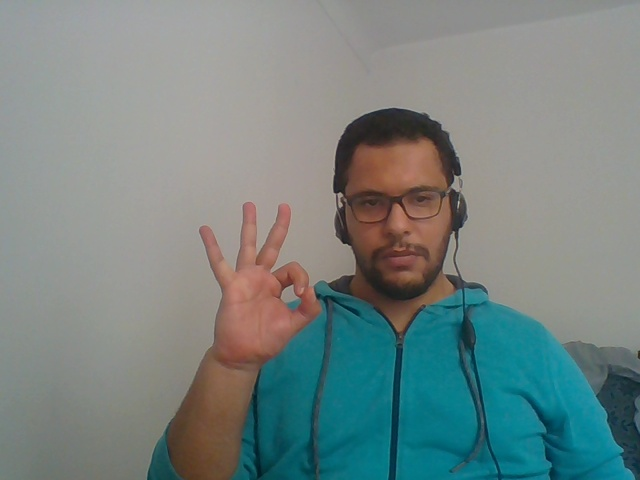okay: (183, 189, 332, 441)
